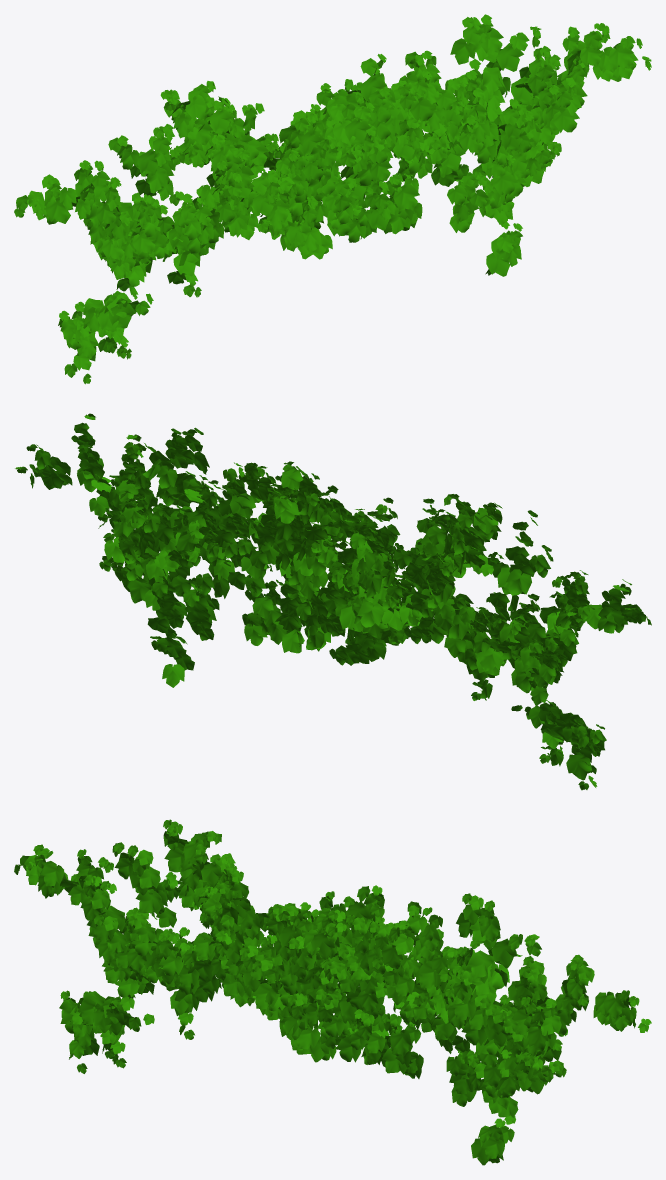
Rendered from Lisce 02.dae.
The picture shows the model from 3 angles, top to bottom: view 1: azimuth 30°, elevation 25°; view 2: azimuth 150°, elevation 25°; view 3: azimuth 330°, elevation 25°; orthographic projection.
Visible parts, largest first — view 1: Lisce 02; view 2: Lisce 02; view 3: Lisce 02.
Boxes of the visible parts, left/top/right/bottom form: Lisce 02: left=14, top=14, right=651, bottom=384; Lisce 02: left=15, top=413, right=651, bottom=790; Lisce 02: left=14, top=819, right=651, bottom=1165.
Size of the model in its own units: 4.57 by 0.4236 by 1.86.
